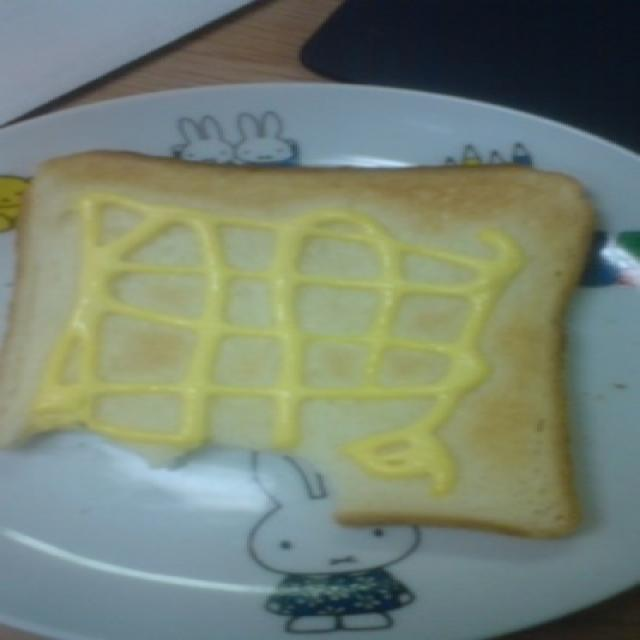面包点心: (0, 77, 640, 640)
